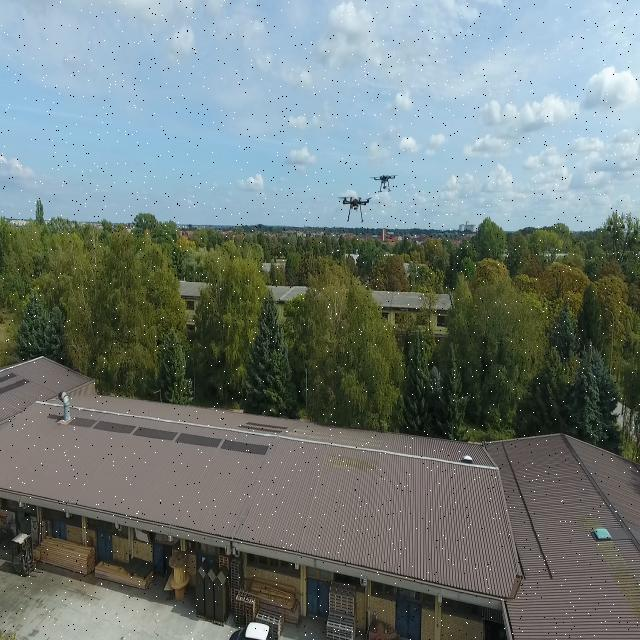UAV: (337, 191, 370, 225), (368, 167, 399, 197)
